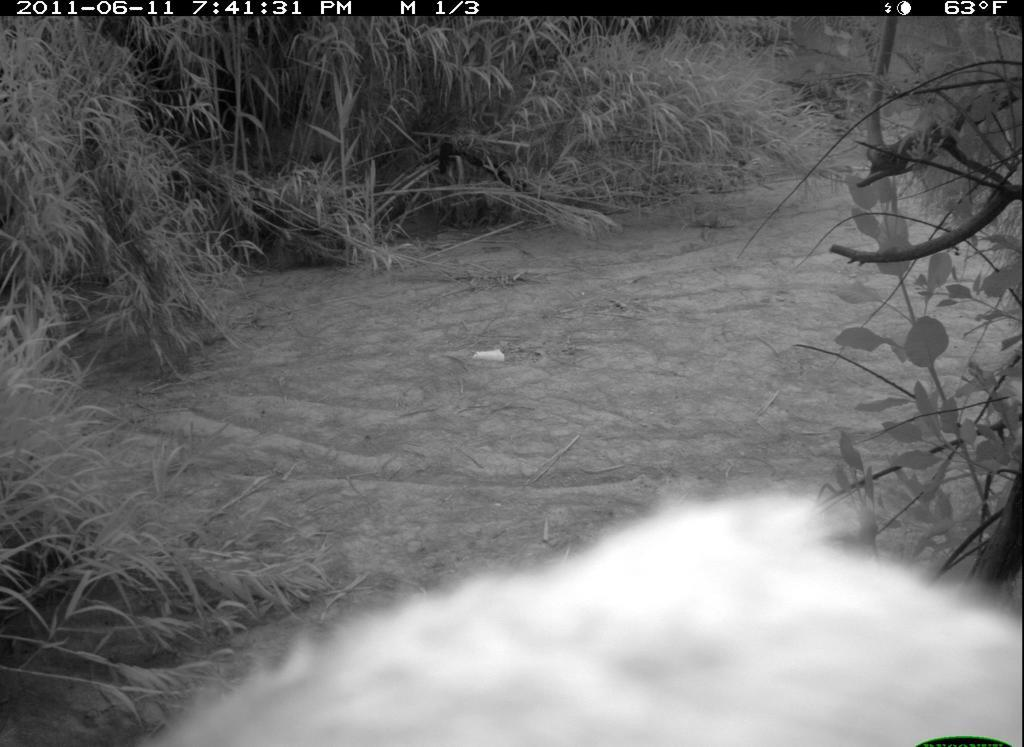bobcat: (144, 491, 1021, 747)
